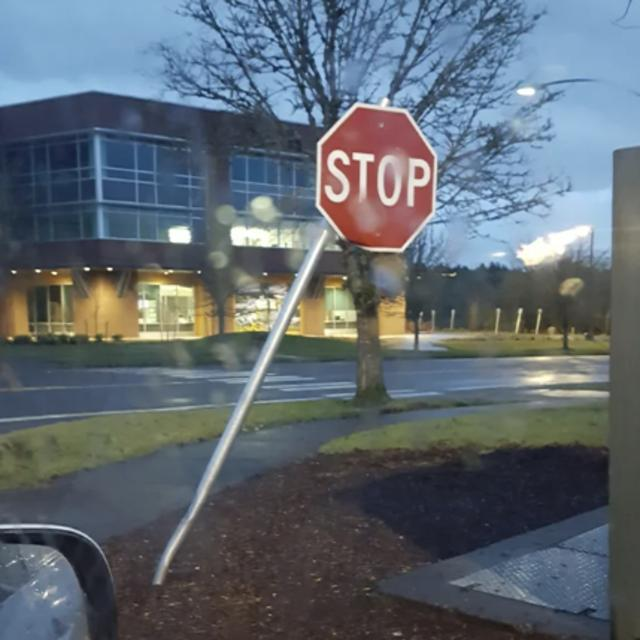Inclined Pole: (149, 104, 439, 591)
